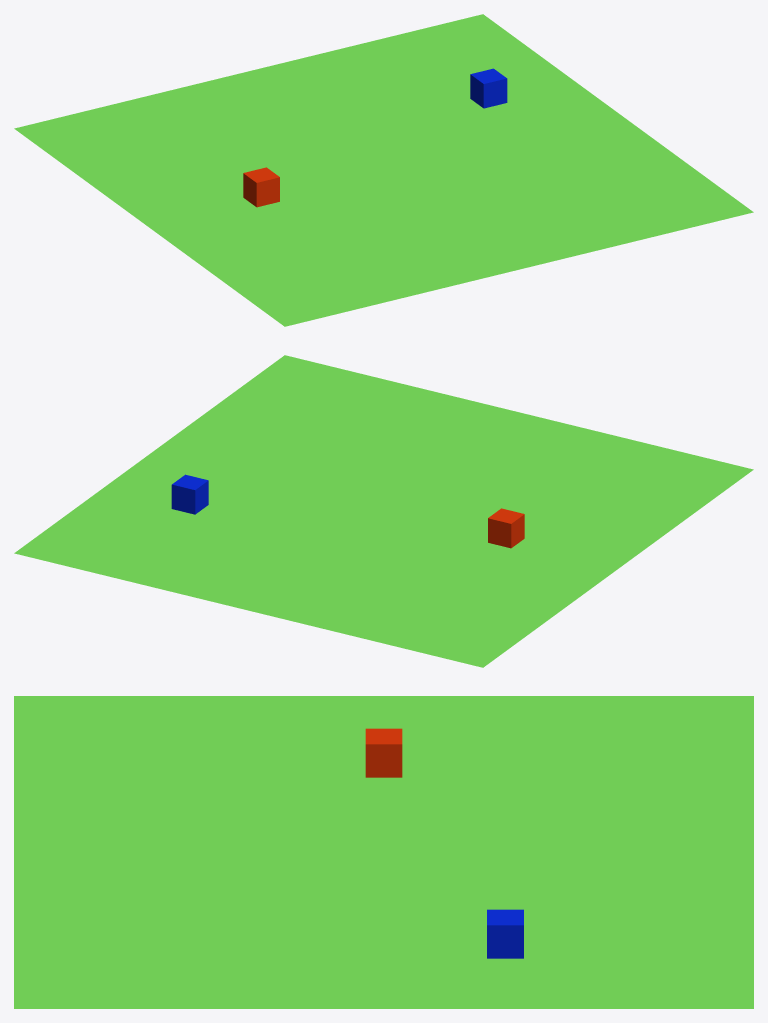
The model's file is map.glb.
3 views of the same model, one above another, from view 1: azimuth 30°, elevation 25°; view 2: azimuth 150°, elevation 25°; view 3: azimuth 270°, elevation 25° (orthographic). The views are drawn at different scales.
Parts seen in each view (by area): view 1: Plane, Cube.001, Cube; view 2: Plane, Cube.001, Cube; view 3: Plane, Cube, Cube.001.
Boxes of the visible parts, left/top/right/bottom form: Plane: left=14, top=14, right=753, bottom=326; Cube.001: left=470, top=68, right=507, bottom=108; Cube: left=243, top=167, right=279, bottom=207; Plane: left=14, top=355, right=753, bottom=667; Cube.001: left=171, top=474, right=208, bottom=514; Cube: left=488, top=508, right=524, bottom=548; Plane: left=14, top=696, right=753, bottom=1008; Cube: left=365, top=728, right=402, bottom=777; Cube.001: left=487, top=909, right=523, bottom=958.
Bounding box in the file's own units: 40.1 × 2.06 × 40.1.
